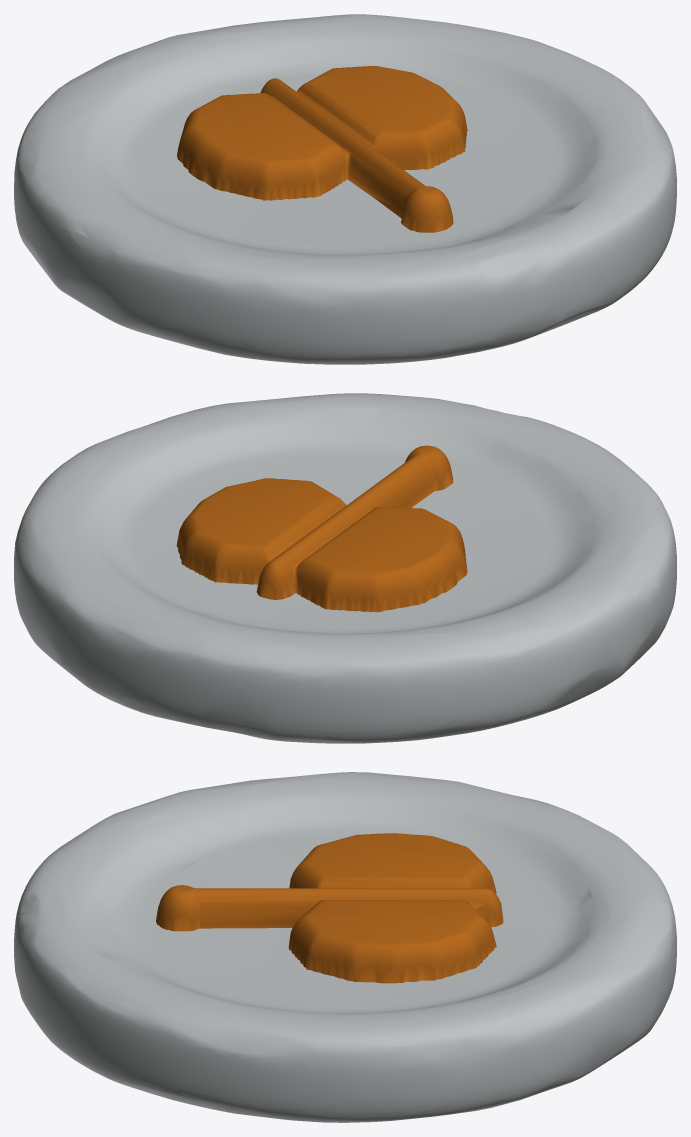
Rendered from token-barbarian-blue.glb.
3 views of the same model, one above another, from view 1: azimuth 30°, elevation 25°; view 2: azimuth 150°, elevation 25°; view 3: azimuth 270°, elevation 25° (orthographic).
Visible parts, largest first — view 1: token_barbarian_blue; view 2: token_barbarian_blue; view 3: token_barbarian_blue.
Part boxes in pixels (x1=…): token_barbarian_blue: x1=14, y1=14, x2=676, y2=364; token_barbarian_blue: x1=14, y1=393, x2=676, y2=743; token_barbarian_blue: x1=14, y1=772, x2=676, y2=1122.
Bounding box in the file's own units: 0.4139 × 0.072 × 0.414.
